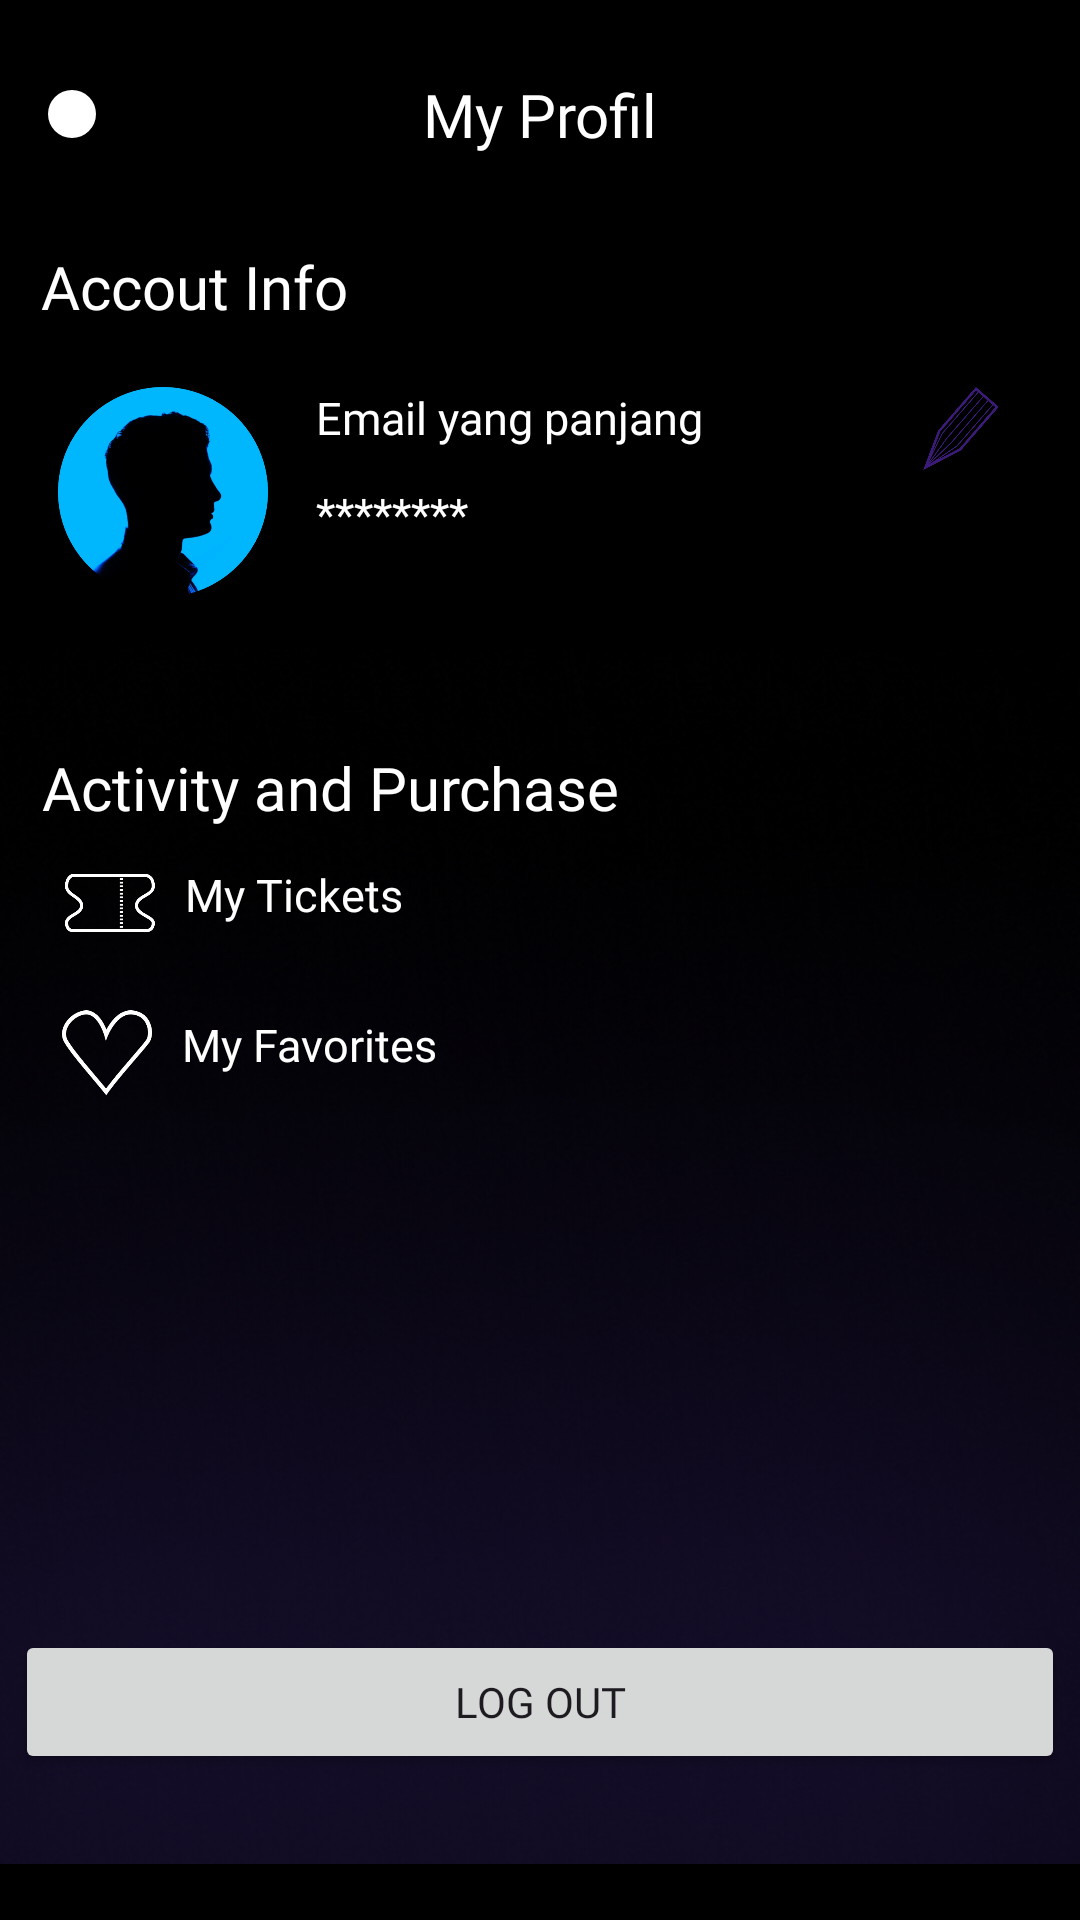

Where to tap for icons on this 1080px×1920px app screen, as (x,y):
love: (107,1052)
pencils: (960,428)
propil: (163,490)
tiketss: (110,903)
